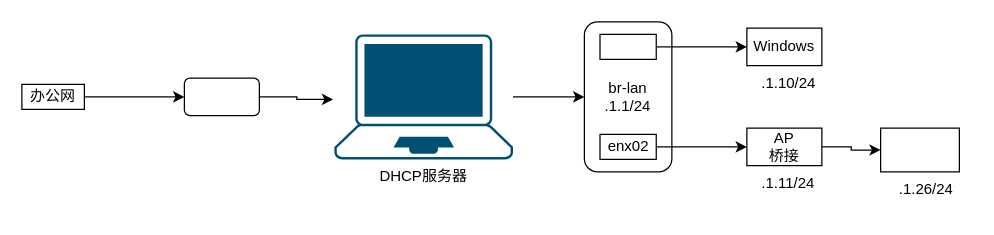
This 994x235 diagram has some shape labels left out. Each missing label, with the centre of its shape:
"enp1s0" goes at point (221, 96).
"enx01" goes at point (627, 46).
"手机" goes at point (919, 149).
